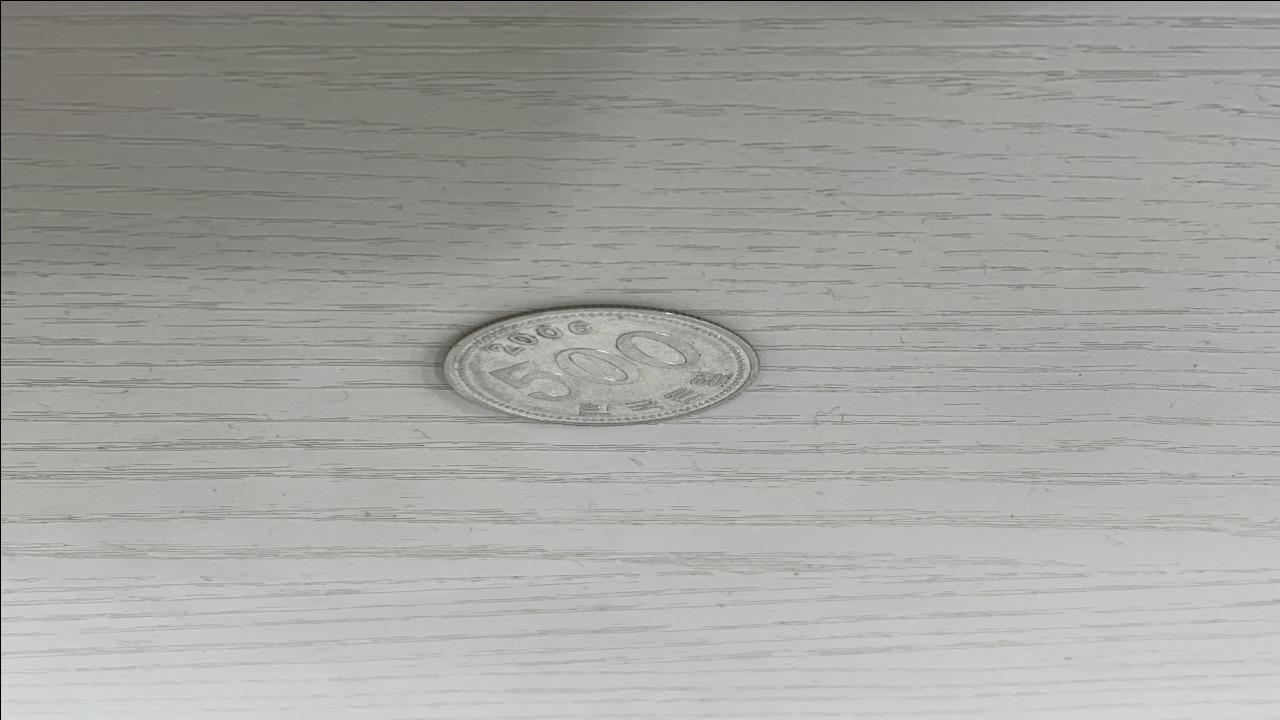coin: (442, 306, 759, 424)
